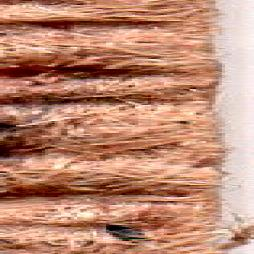egg: (106, 224, 141, 240)
